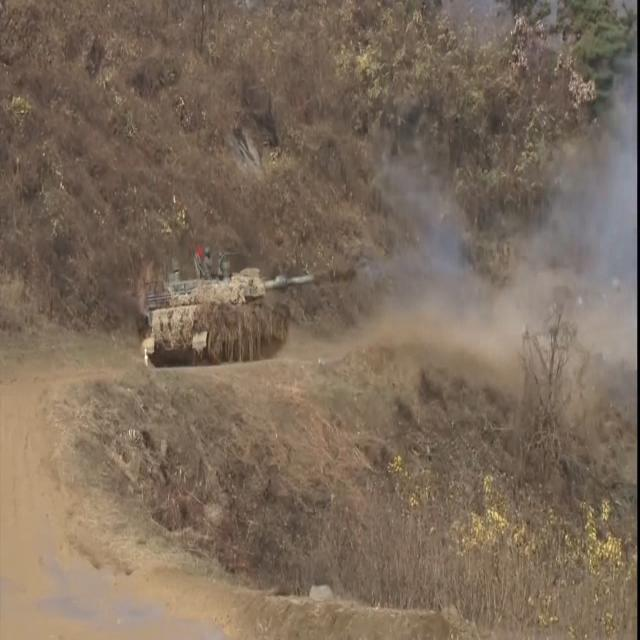korea tank: (132, 242, 358, 372)
